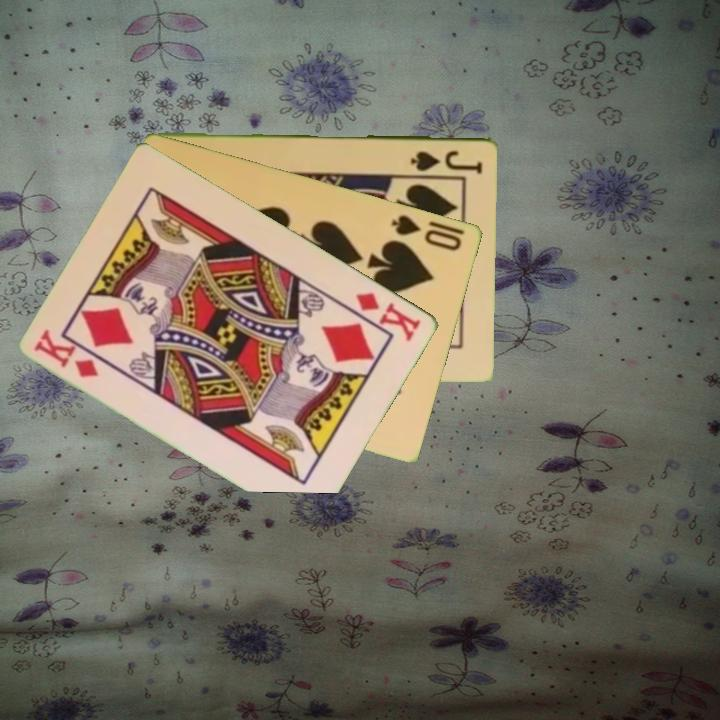10s: (388, 211, 465, 254)
Js: (407, 147, 485, 173)
Kd: (352, 288, 425, 344), (31, 326, 103, 381)
